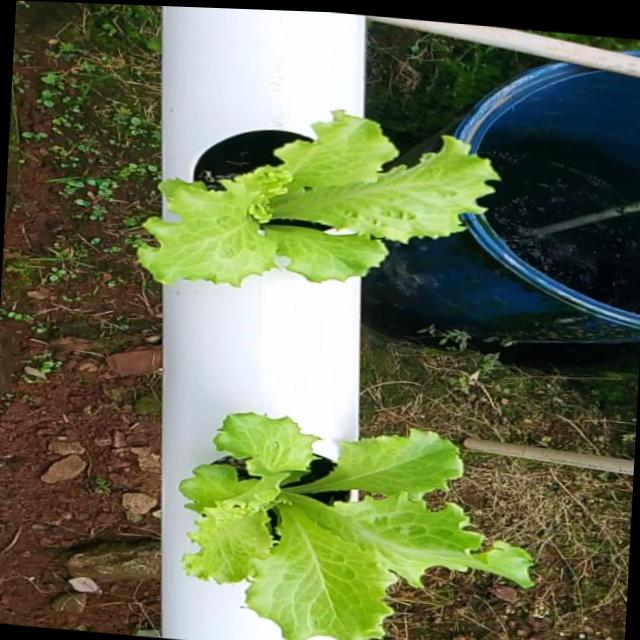Baby: (180, 405, 533, 640), (142, 97, 510, 274)
